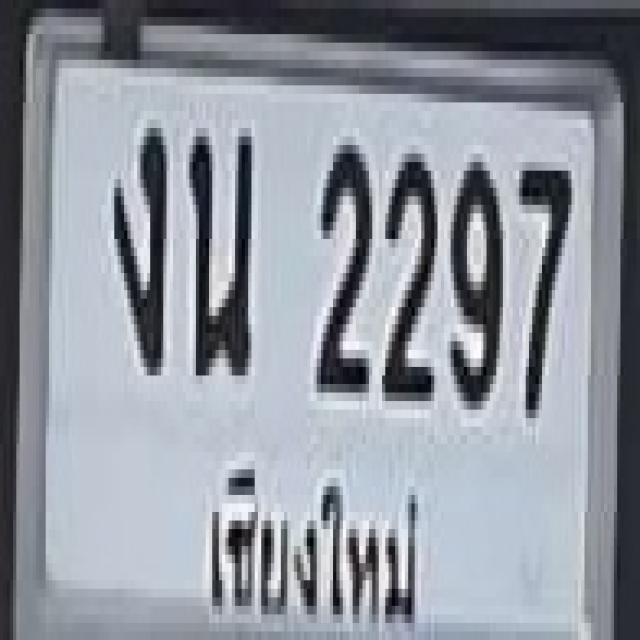2: (313, 137, 369, 384), (379, 145, 434, 393)
7: (516, 153, 568, 410)
9: (448, 154, 500, 401)
A07: (111, 119, 163, 367)
A25: (186, 115, 248, 371)
CMI: (197, 452, 427, 639)
